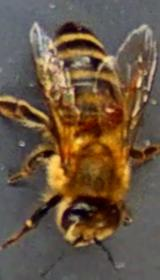varroa_mite: (99, 101, 127, 127)
